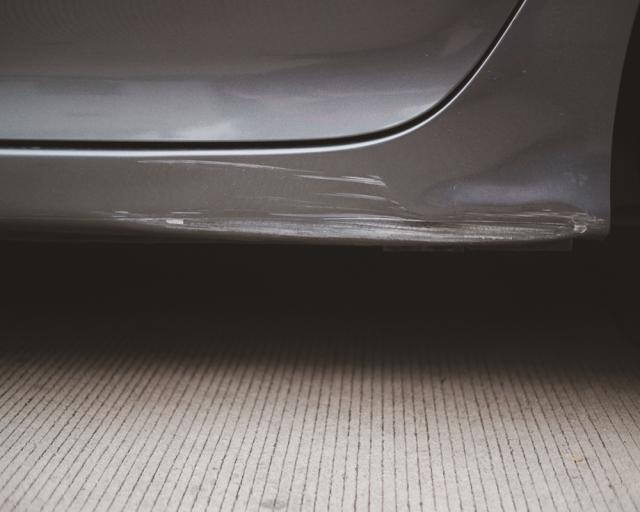dent: (424, 109, 614, 212)
scratch: (103, 154, 601, 243)
